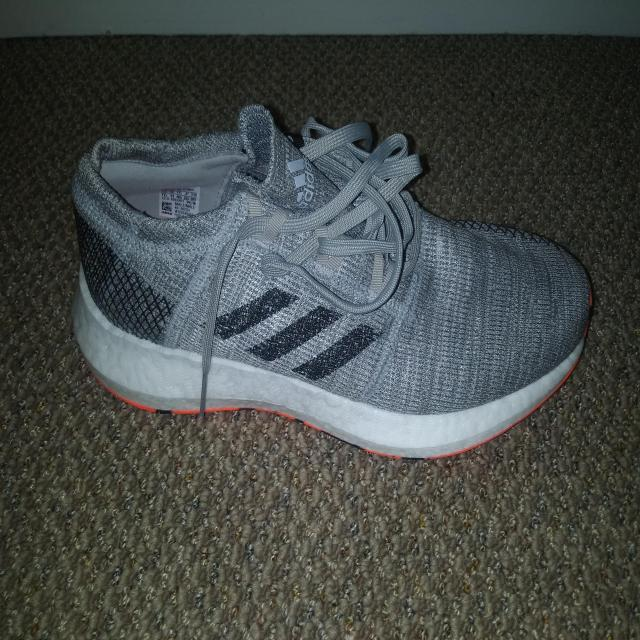shoe: (62, 92, 614, 458)
